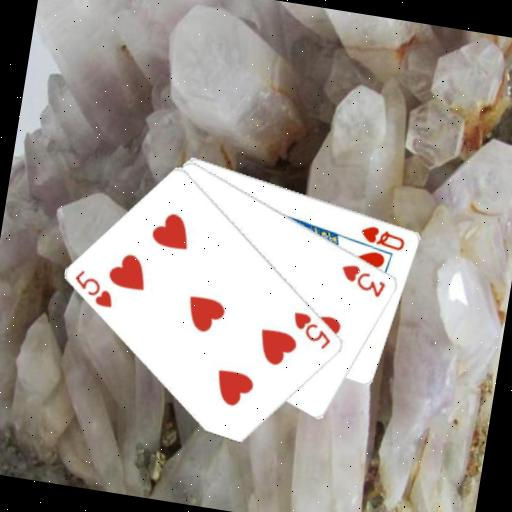3H: (335, 259, 390, 300)
5H: (286, 307, 336, 352), (68, 266, 119, 310)
QH: (356, 220, 409, 253)
